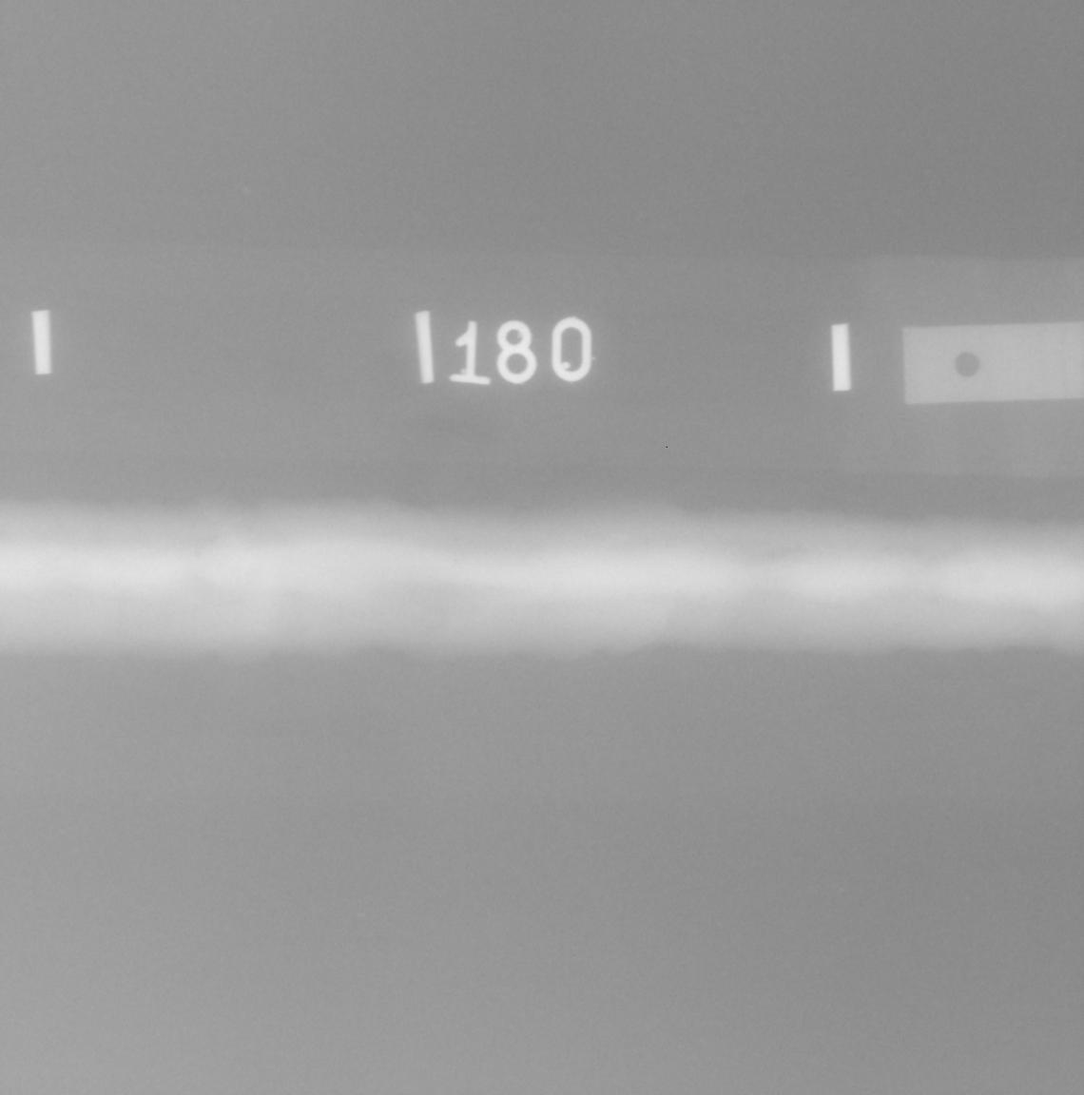Inclusion: (768, 539, 814, 559), (195, 547, 204, 557)
Pore/Porosity: (453, 558, 462, 565), (452, 536, 460, 542)
